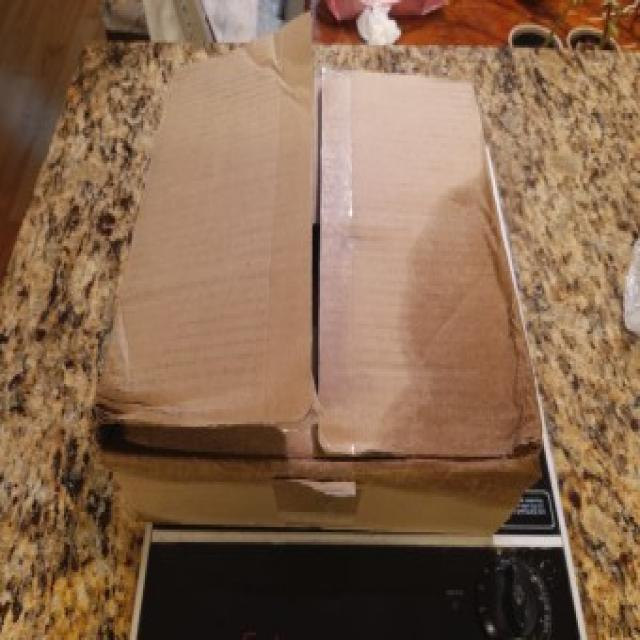wet: (109, 69, 538, 513)
